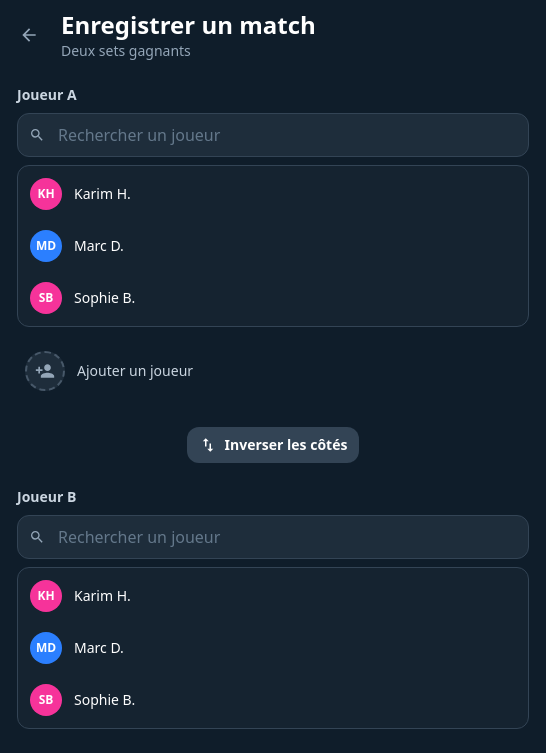
Ping-pong match entry › the two sides › frees the other side again when a pick is changed
The image size is (546, 753).
Click the 1st option "MD Marc D." at (46, 246), box [22,222,524,270]
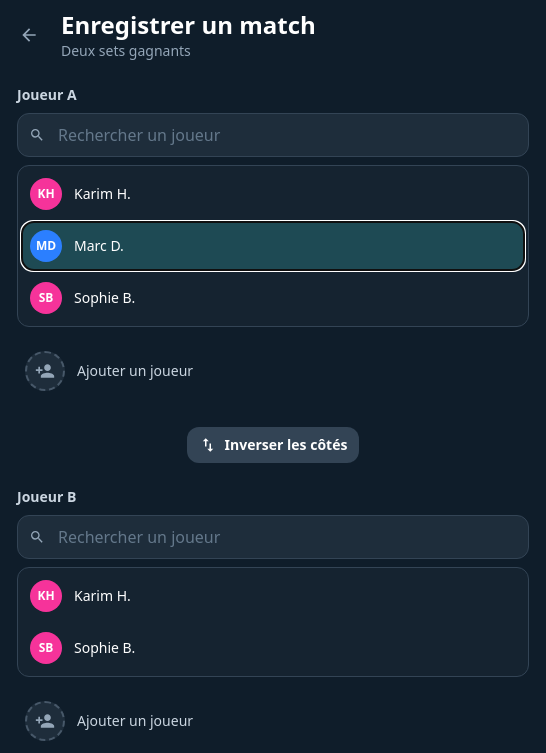
Click the option "KH Karim H." below "Joueur A" at (46, 194), box [22,170,524,218]
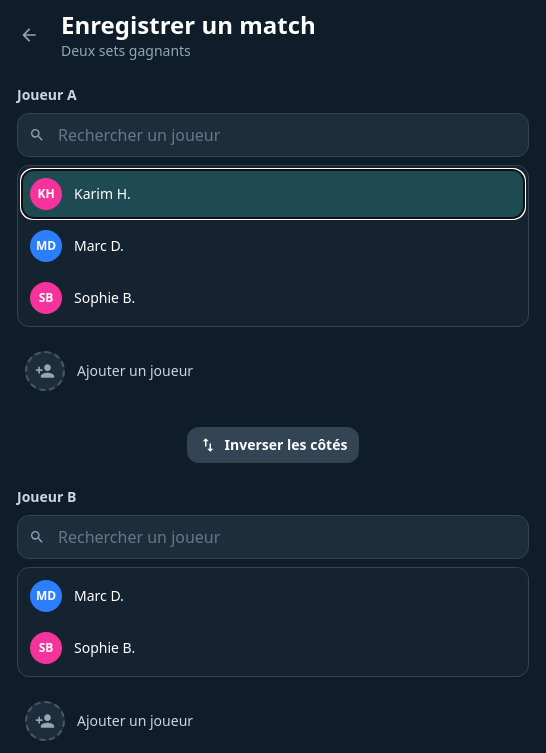
Result: the 2nd option "MD Marc D." is shown at [22,572,524,620]
